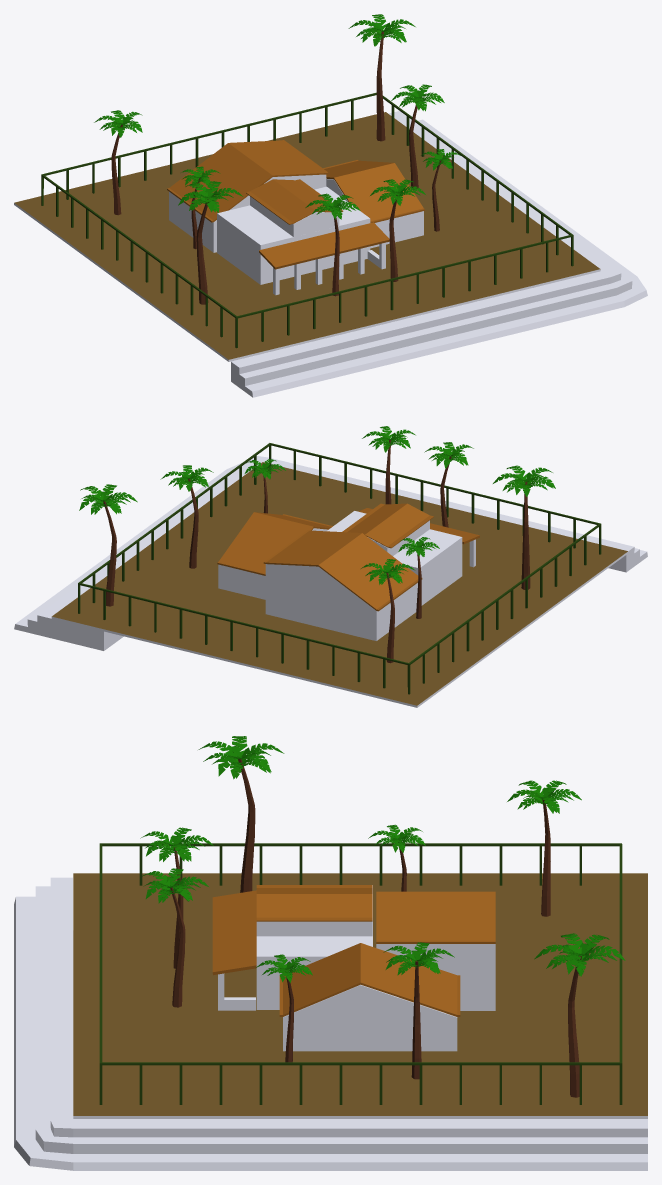
Rendered from igreja.fbx.
3 views of the same model, one above another, from view 1: azimuth 30°, elevation 25°; view 2: azimuth 150°, elevation 25°; view 3: azimuth 270°, elevation 25° (orthographic). The views are drawn at different scales.
Visible parts, largest first — view 1: Cylinder.002; view 2: Cylinder.002; view 3: Cylinder.002.
Boxes of the visible parts, x1=… form: Cylinder.002: x1=14, y1=14, x2=647, y2=397; Cylinder.002: x1=14, y1=426, x2=647, y2=707; Cylinder.002: x1=14, y1=736, x2=647, y2=1170.
Size of the model in its own units: 19294 by 6103 by 19299.
